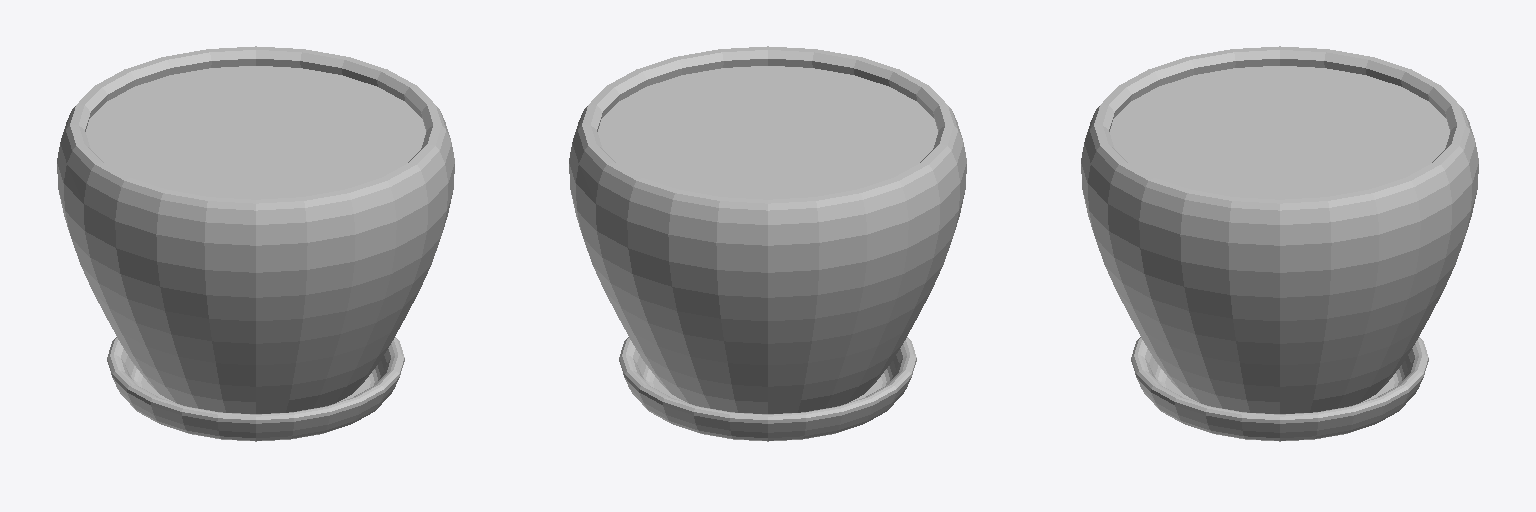
The model's file is ceramic-plant-pot-004.obj.
The picture shows the model from 3 angles: view 1: azimuth 30°, elevation 25°; view 2: azimuth 150°, elevation 25°; view 3: azimuth 270°, elevation 25°; orthographic projection.
Parts seen in each view (by area): view 1: pot, dirt, base; view 2: pot, dirt, base; view 3: pot, dirt, base.
Boxes of the visible parts, box(x1,y1,x2,y2) form: pot: box(57, 46, 454, 413); dirt: box(86, 66, 425, 199); base: box(107, 337, 404, 441); pot: box(569, 46, 966, 413); dirt: box(598, 66, 937, 199); base: box(619, 337, 916, 441); pot: box(1081, 46, 1478, 413); dirt: box(1110, 66, 1449, 199); base: box(1131, 337, 1428, 441).
Size of the model in its own units: 0.16 by 0.1163 by 0.16.